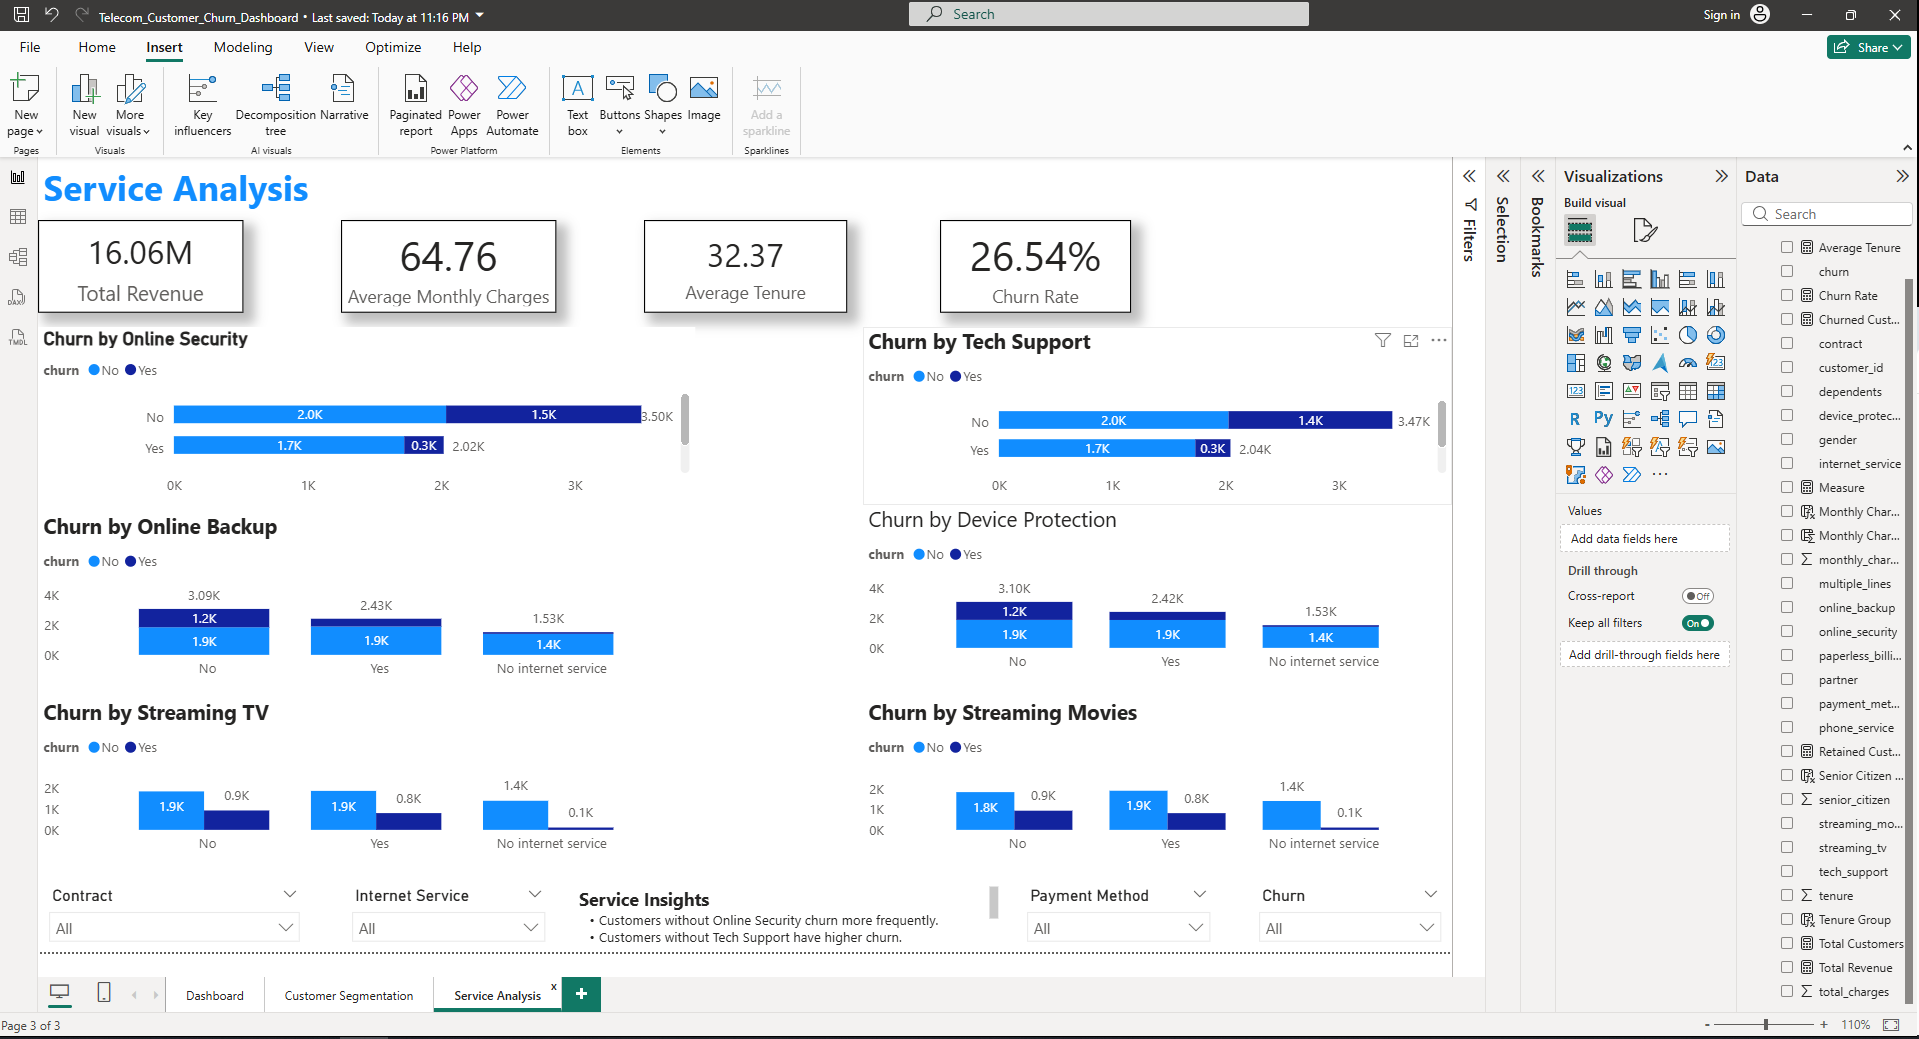

The page's visual inventory and layout, read from the dashboard file:
{"tool":"powerbi","page":{"name":"Service Analysis","canvas":[1280,720],"ordinal":2},"visuals":[{"type":"textbox","box":[0,0,400.1,57],"z":0},{"type":"card","fields":{"Values":["telecom_customer_churn.Churn Rate"]},"box":[816.5,57,172.9,84.2],"z":1000},{"type":"card","fields":{"Values":["telecom_customer_churn.Average Monthly Charges"]},"box":[274.3,57,194.6,84.2],"z":2000},{"type":"card","fields":{"Values":["telecom_customer_churn.Average Tenure"]},"box":[548.6,57,183.8,84.2],"z":3000},{"type":"card","fields":{"Values":["telecom_customer_churn.Total Revenue"]},"box":[0,57,185.6,84.2],"z":4000},{"type":"barChart","title":"Churn by Online Security","fields":{"Category":["telecom_customer_churn.online_security"],"Y":["CountNonNull(telecom_customer_churn.customer_id)"],"Series":["telecom_customer_churn.churn"]},"box":[0,153.9,594.7,161.1],"z":5000},{"type":"barChart","title":"Churn by Tech Support","fields":{"Category":["telecom_customer_churn.tech_support"],"Y":["CountNonNull(telecom_customer_churn.customer_id)"],"Series":["telecom_customer_churn.churn"]},"box":[746.8,153.9,533.2,161.1],"z":6000},{"type":"columnChart","title":"Churn by Online Backup","fields":{"Category":["telecom_customer_churn.online_backup"],"Y":["CountNonNull(telecom_customer_churn.customer_id)"],"Series":["telecom_customer_churn.churn"]},"box":[0,321.4,594.7,159.3],"z":7000},{"type":"columnChart","title":"Churn by Device Protection","fields":{"Category":["telecom_customer_churn.device_protection"],"Y":["CountNonNull(telecom_customer_churn.customer_id)"],"Series":["telecom_customer_churn.churn"]},"box":[746.8,315,533.2,159.3],"z":8000},{"type":"clusteredColumnChart","title":"Churn by Streaming TV","fields":{"Category":["telecom_customer_churn.streaming_tv"],"Y":["CountNonNull(telecom_customer_churn.customer_id)"],"Series":["telecom_customer_churn.churn"]},"box":[0,489.7,594.7,149.4],"z":9000},{"type":"clusteredColumnChart","title":"Churn by Streaming Movies","fields":{"Category":["telecom_customer_churn.streaming_movies"],"Y":["CountNonNull(telecom_customer_churn.customer_id)"],"Series":["telecom_customer_churn.churn"]},"box":[746.8,489.7,533.2,149.4],"z":10000},{"type":"slicer","fields":{"Values":["telecom_customer_churn.contract"]},"box":[0,655.4,247.1,64.3],"z":11000},{"type":"slicer","fields":{"Values":["telecom_customer_churn.internet_service"]},"box":[274.3,655.4,194.6,64.3],"z":12000},{"type":"slicer","fields":{"Values":["telecom_customer_churn.payment_method"]},"box":[885.3,655.4,185.6,64.3],"z":13000},{"type":"slicer","fields":{"Values":["telecom_customer_churn.churn"]},"box":[1095.3,655.4,184.7,55.2],"z":14000},{"type":"textbox","box":[484.3,655.4,390.2,64.3],"z":14001}]}

Visuals, with their boxes on the page's 1280x720 design canvas (x1, y1, x2, y2). These are canvas units, not pixel positions in the 1919x1039 screenshot, which may show the page scaled, cropped or inside an application window:
textbox: region(0, 0, 400, 57)
card - telecom_customer_churn.Churn Rate: region(816, 57, 989, 141)
card - telecom_customer_churn.Average Monthly Charges: region(274, 57, 469, 141)
card - telecom_customer_churn.Average Tenure: region(549, 57, 732, 141)
card - telecom_customer_churn.Total Revenue: region(0, 57, 186, 141)
"Churn by Online Security" barChart: region(0, 154, 595, 315)
"Churn by Tech Support" barChart: region(747, 154, 1280, 315)
"Churn by Online Backup" columnChart: region(0, 321, 595, 481)
"Churn by Device Protection" columnChart: region(747, 315, 1280, 474)
"Churn by Streaming TV" clusteredColumnChart: region(0, 490, 595, 639)
"Churn by Streaming Movies" clusteredColumnChart: region(747, 490, 1280, 639)
slicer - telecom_customer_churn.contract: region(0, 655, 247, 720)
slicer - telecom_customer_churn.internet_service: region(274, 655, 469, 720)
slicer - telecom_customer_churn.payment_method: region(885, 655, 1071, 720)
slicer - telecom_customer_churn.churn: region(1095, 655, 1280, 711)
textbox: region(484, 655, 874, 720)
